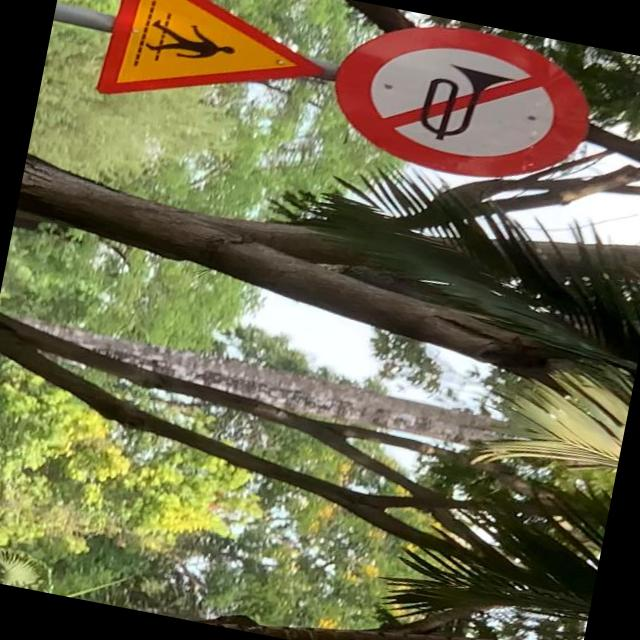W-224: (96, 0, 339, 135)
